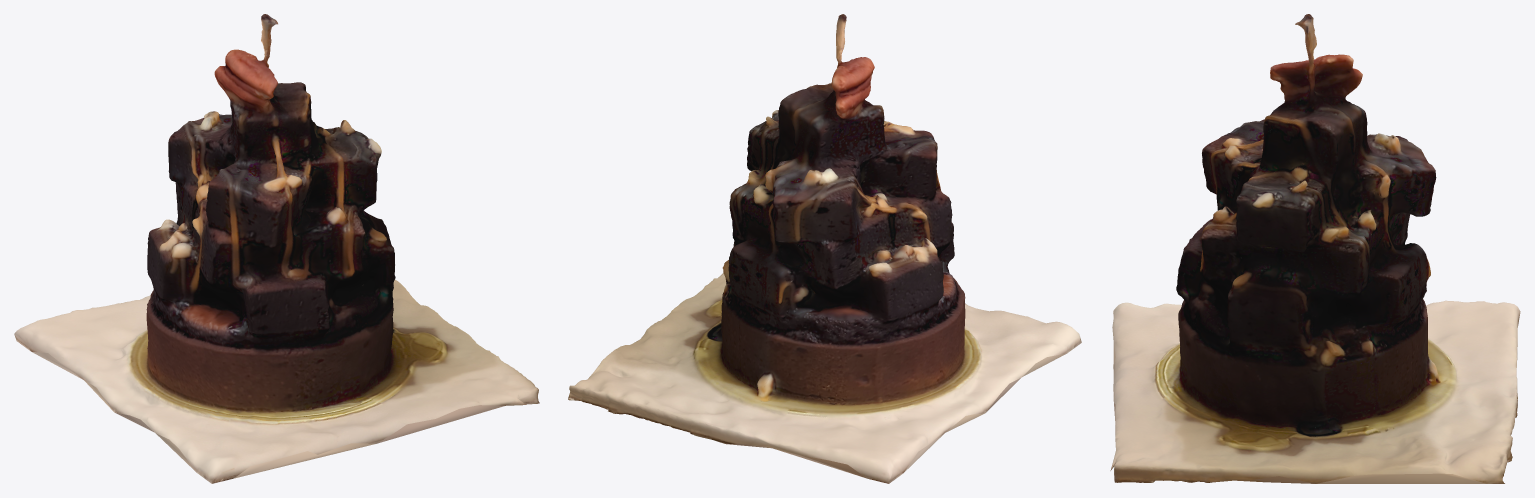
File: chocolate_brownie_cake.glb
3 renders of one model, left to right at view 1: azimuth 30°, elevation 25°; view 2: azimuth 150°, elevation 25°; view 3: azimuth 270°, elevation 25°, orthographic. The views are drawn at different scales.
Parts seen in each view (by area): view 1: model; view 2: model; view 3: model.
Part boxes in pixels (left/top/right/bottom): model: left=14, top=14, right=539, bottom=483; model: left=568, top=14, right=1081, bottom=483; model: left=1110, top=14, right=1520, bottom=483.
Size of the model in its own units: 0.1162 by 0.1217 by 0.1197.
1 material, 1 textured.
